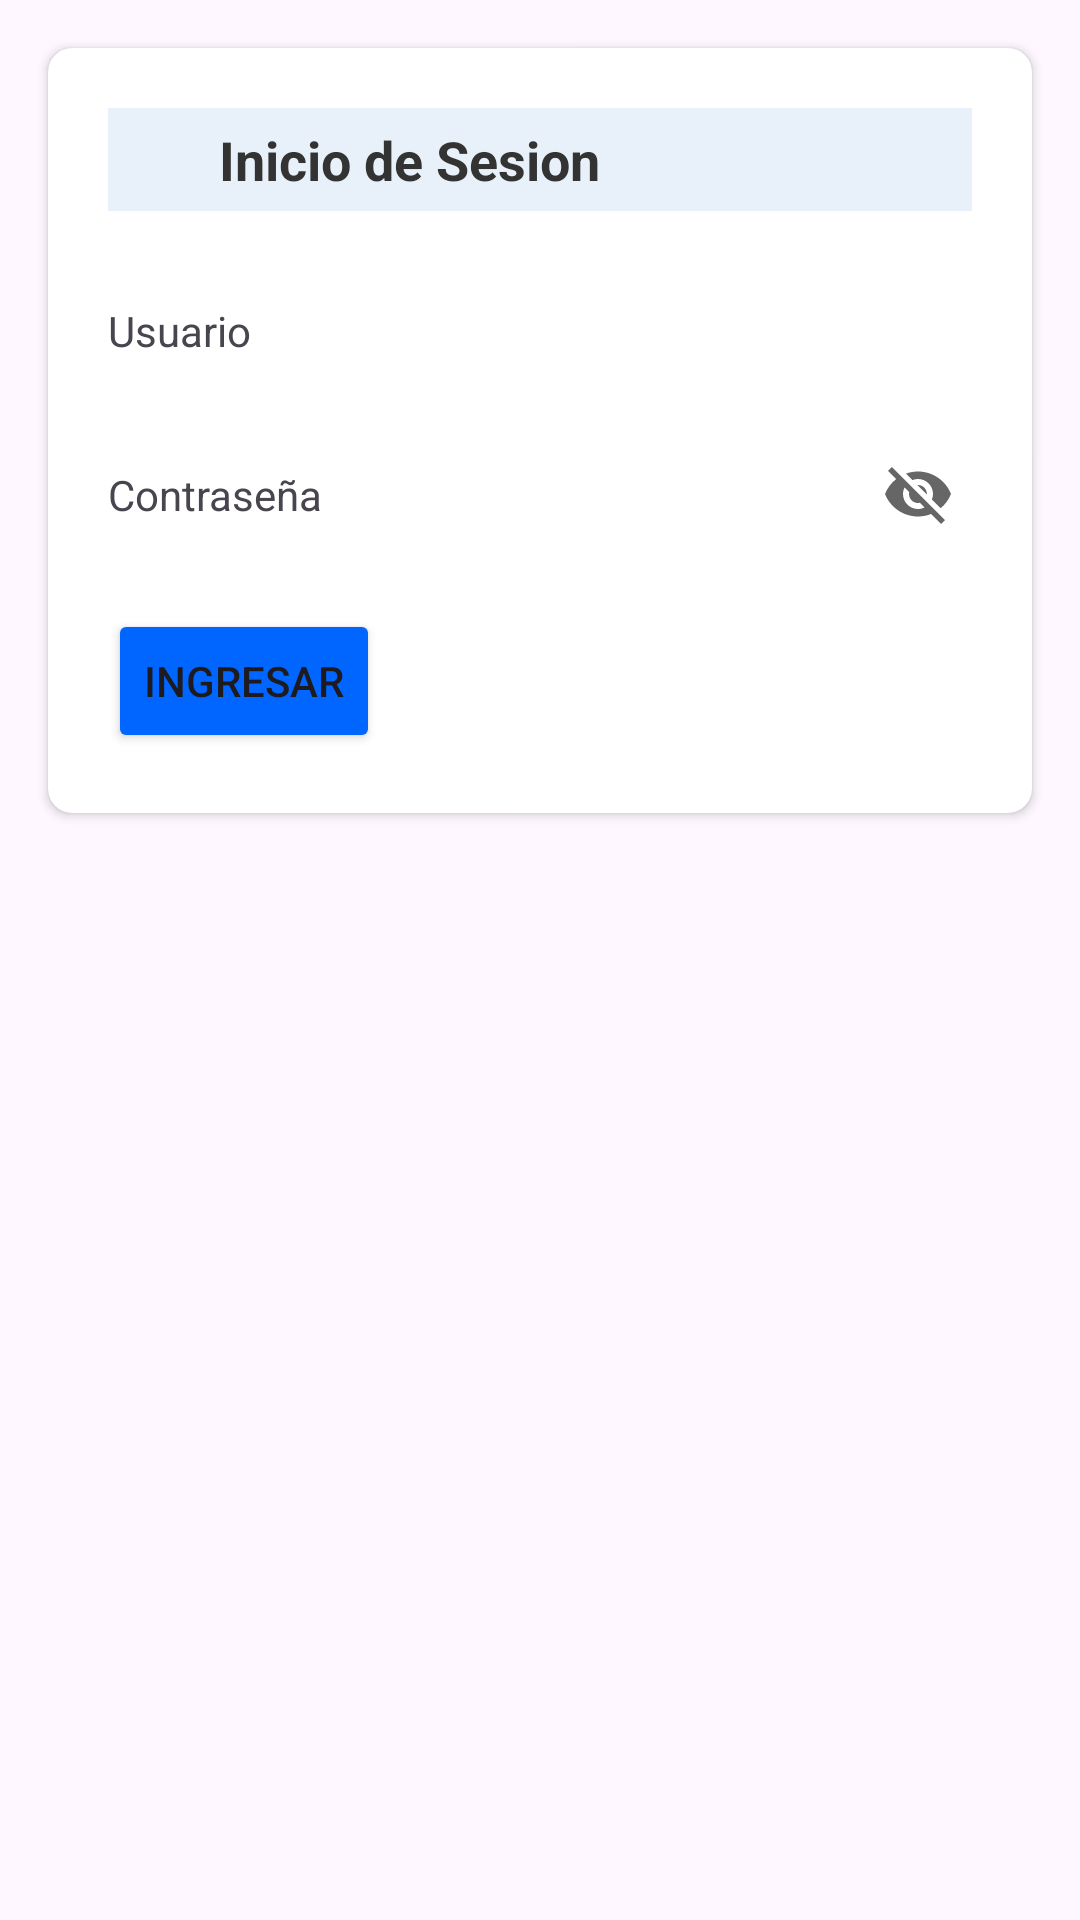

Named icons in this screenshot (1080px×1920px) and their bounding boxes, (x1=x1, y1=y1, x2=x2, y2=y2):
Ver contraseña: (x1=885, y1=467, x2=951, y2=524)
